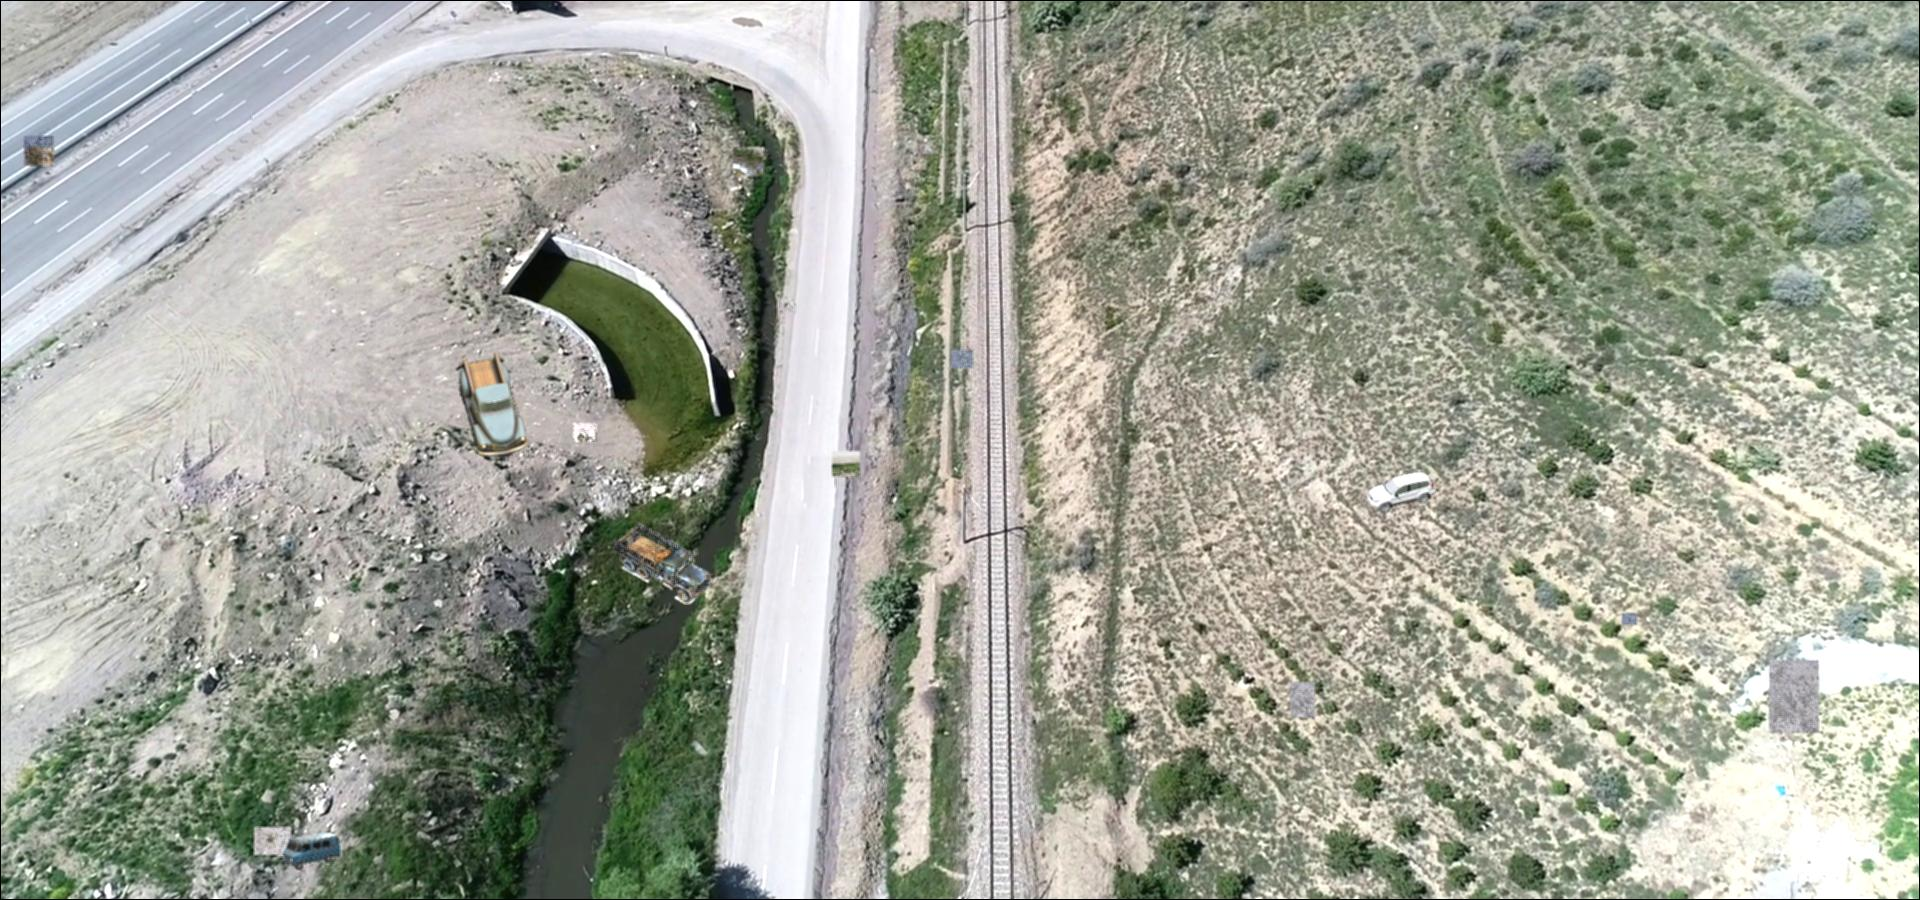arac: (612, 520, 713, 604), (453, 351, 529, 457), (1367, 471, 1435, 514), (282, 833, 340, 869)
